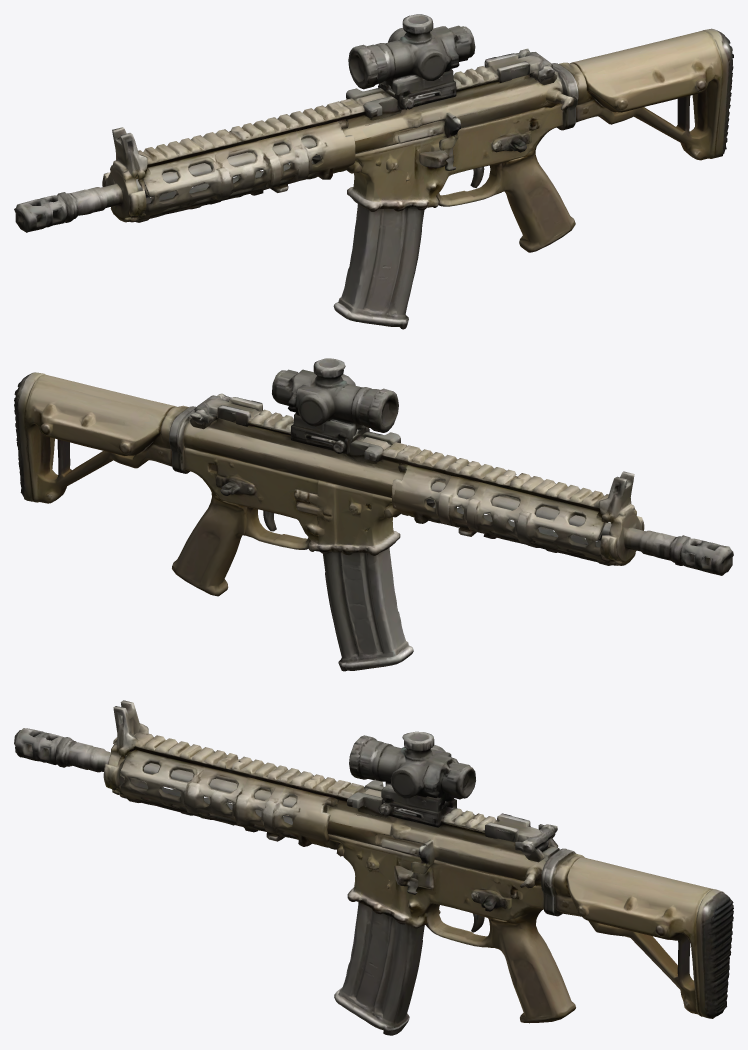
Rendered from rn_marine27.glb.
3 renders of one model, top to bottom at view 1: azimuth 30°, elevation 25°; view 2: azimuth 150°, elevation 25°; view 3: azimuth 330°, elevation 25°, orthographic.
Visible parts, largest first — view 1: tripo_node_e1961130-1bf3-42a3-a37f-9facc2e89541; view 2: tripo_node_e1961130-1bf3-42a3-a37f-9facc2e89541; view 3: tripo_node_e1961130-1bf3-42a3-a37f-9facc2e89541.
Part boxes in pixels (x1,y1,x2,y2): tripo_node_e1961130-1bf3-42a3-a37f-9facc2e89541: [14, 14, 733, 329]; tripo_node_e1961130-1bf3-42a3-a37f-9facc2e89541: [14, 358, 733, 671]; tripo_node_e1961130-1bf3-42a3-a37f-9facc2e89541: [14, 700, 733, 1035].
Bounding box in the file's own units: 0.9798 × 0.3968 × 0.1037.
1 material, 1 textured.
